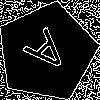A: (22, 27, 78, 83)
